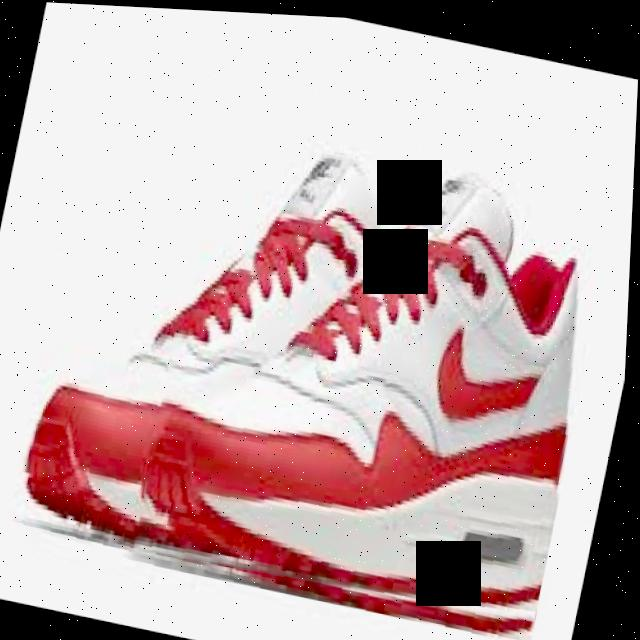shoe: (7, 90, 627, 640), (130, 125, 621, 630)
